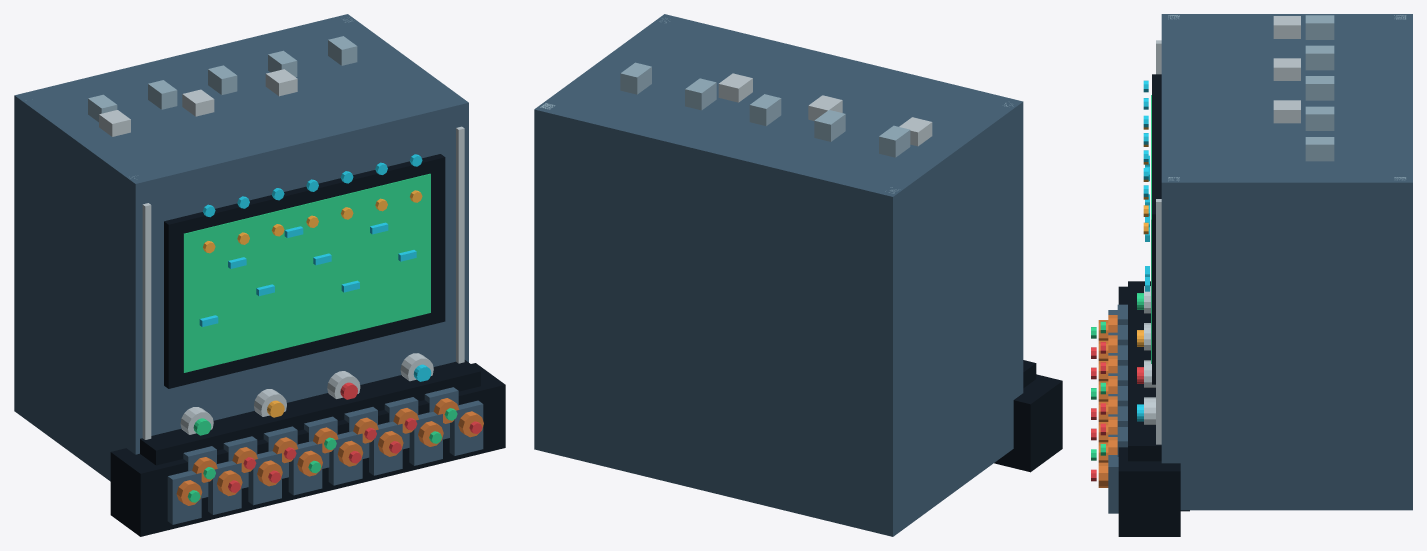
The model's file is 51_L73_CMPDigitalIOModule.fbx.
The picture shows the model from 3 angles, left to right: view 1: azimuth 30°, elevation 25°; view 2: azimuth 150°, elevation 25°; view 3: azimuth 270°, elevation 25°; orthographic projection. The views are drawn at different scales.
Parts seen in each view (by area): view 1: CMPDigitalIOModule; view 2: CMPDigitalIOModule; view 3: CMPDigitalIOModule.
Boxes of the visible parts, left/top/right/bottom form: CMPDigitalIOModule: left=14, top=14, right=505, bottom=536; CMPDigitalIOModule: left=534, top=14, right=1062, bottom=536; CMPDigitalIOModule: left=1091, top=14, right=1412, bottom=536.
Size of the model in its own units: 127 by 116 by 93.5.
